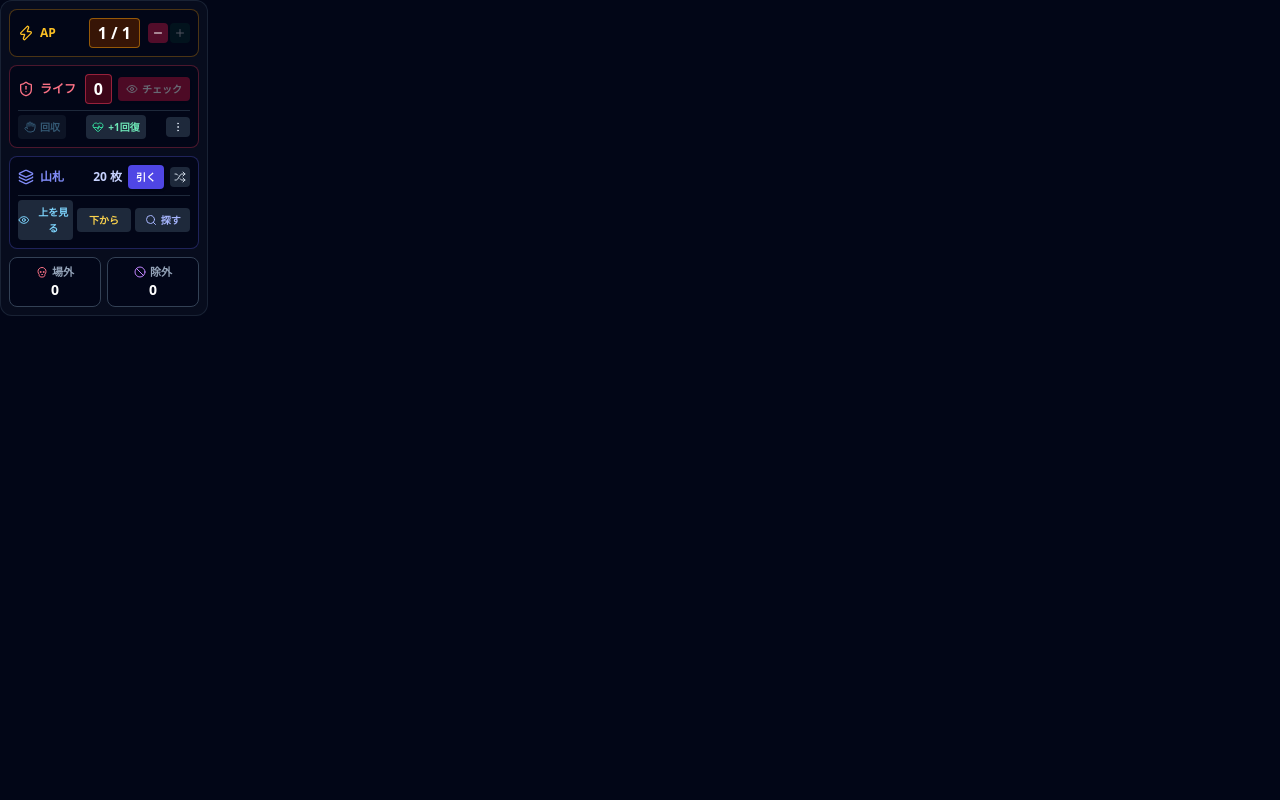
Test: SideZonesArea Top Deck Viewing Options › prevents bottom deck dropdown and life menu from overflowing and supports backdrop dismiss
The width and height of the screenshot is (1280, 800).
// Open bottom deck dropdown
Click the button titled "山札の一番下のカードに対する操作".
click(104, 220)  # box left=77, top=208, right=131, bottom=232
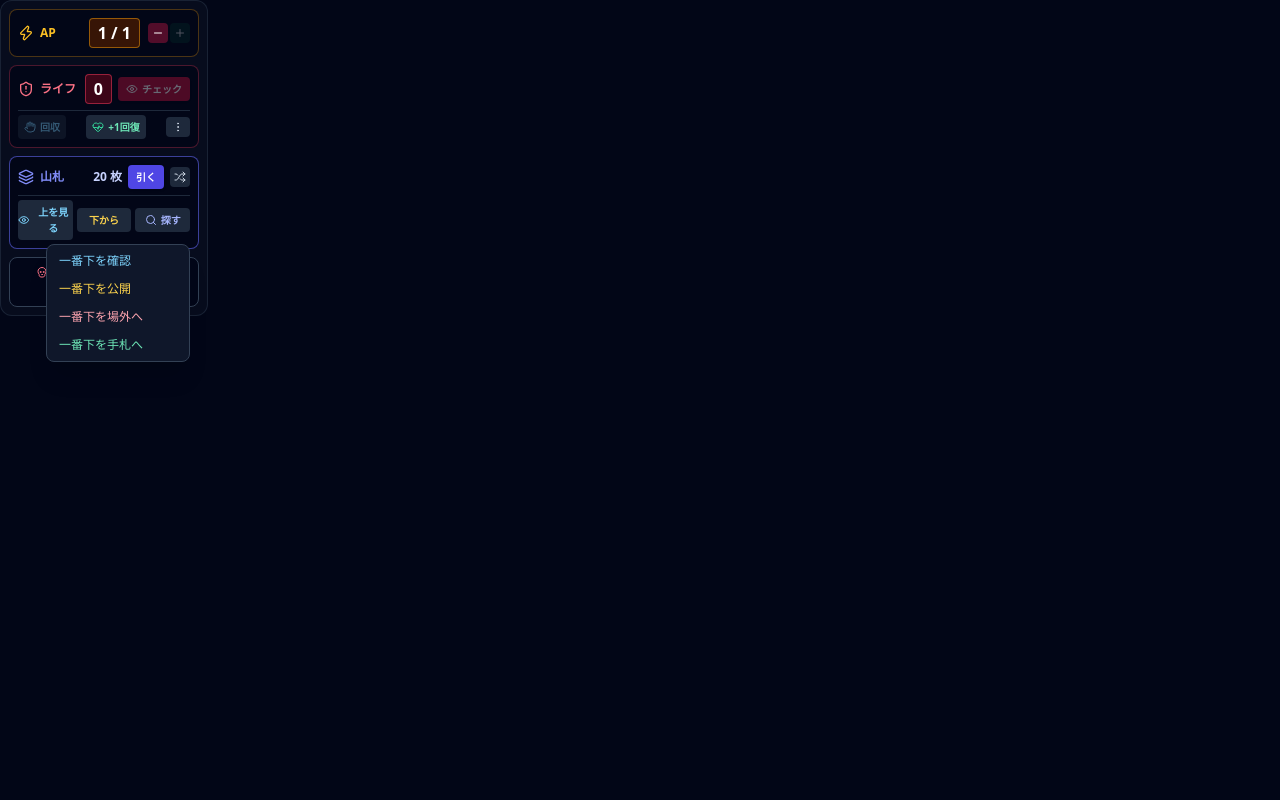
// Clicking outside backdrop dismisses bottom deck menu
Click the element with test id "dropdown-backdrop".
click(640, 400)  # box left=0, top=0, right=1279, bottom=799
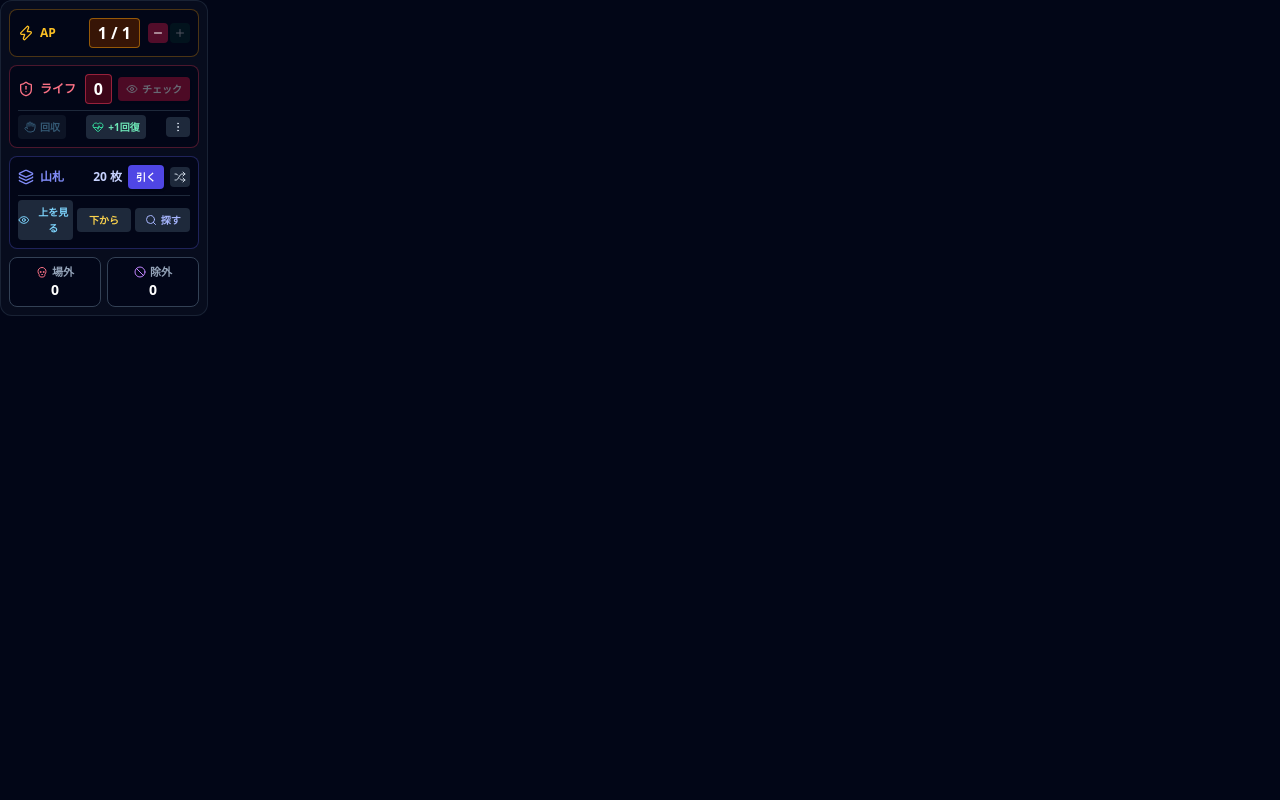
Expected: the menu "山札の下からメニュー" is gone
